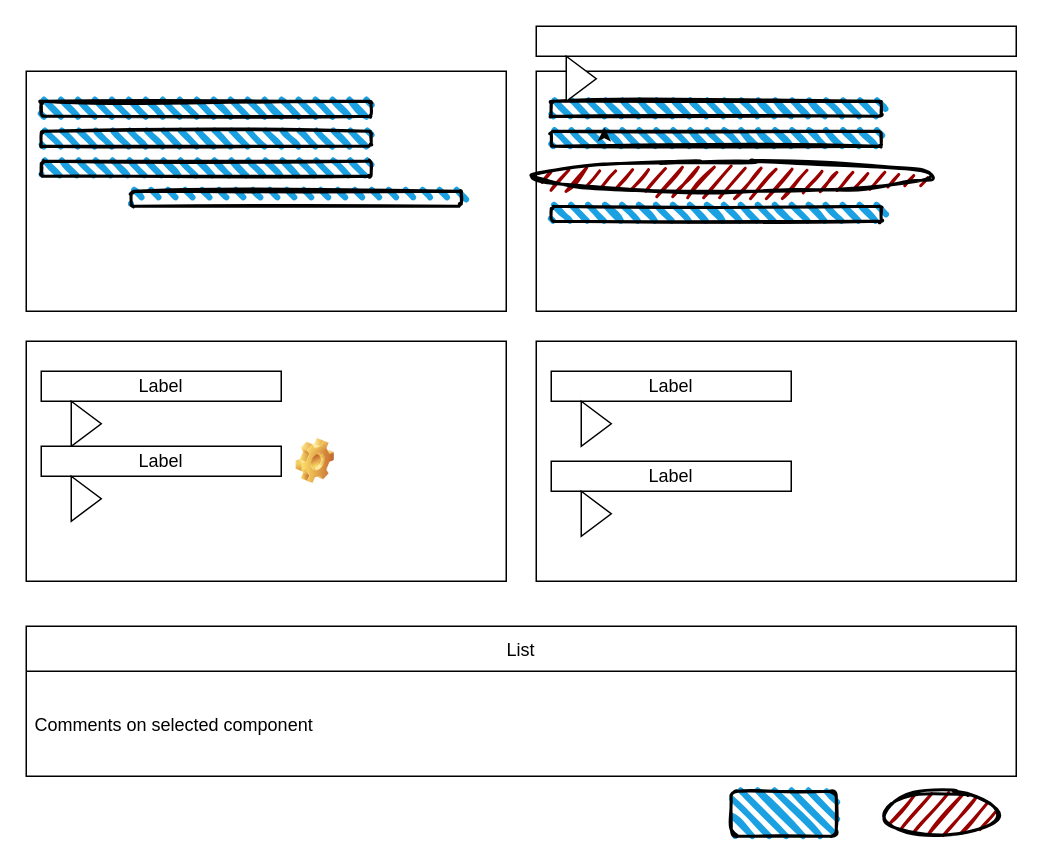
Some shapes in this 1043 by 864 pixel diagram are drawn without their labels. Here are the shapes that lost their labels. From the top down, the centre of each, then its label:
pixel 775 40: Select Change: <Date>
pixel 783 813: Comment
pixel 940 813: Approve
